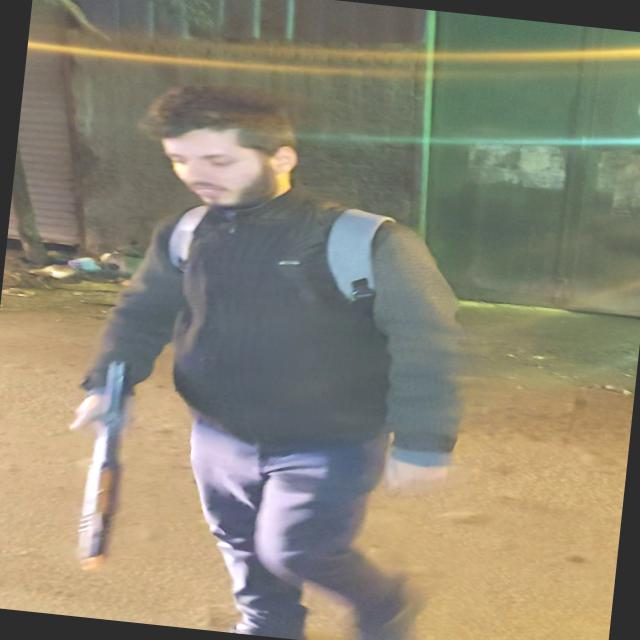long weapon: (42, 338, 174, 584)
